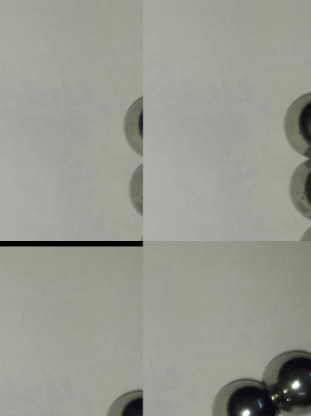ironball: (263, 345, 309, 414), (209, 373, 268, 414), (279, 89, 309, 158), (287, 159, 309, 218), (119, 96, 141, 155), (121, 160, 139, 214), (106, 389, 140, 415)
